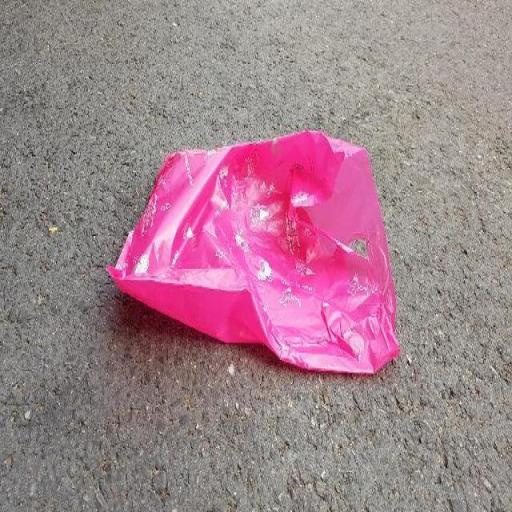plastic-bag: (102, 128, 402, 376)
